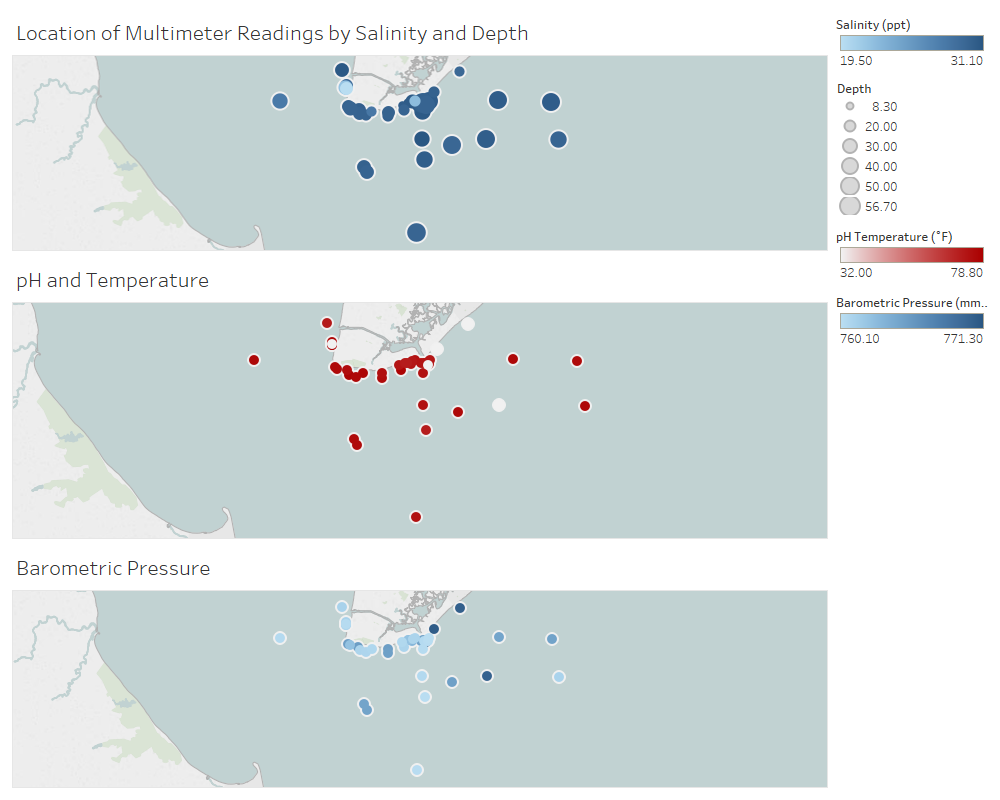

What the dashboard file says about the page in this screenshot:
{"tool":"tableau","page":{"name":"Dashboard 1","canvas":[1000,800],"ordinal":0},"visuals":[{"type":"worksheet","title":"Salinity and Depth","mark":"Automatic","rows":["Latitude"],"cols":["Longitude"],"box":[8,8,824,247]},{"type":"legend","title":"Salinity and Depth","param":"[federated.1645xv30hwy4821c7qb4b1jppbaa].[none:Salinity (ppt):qk]","box":[832,8,160,65]},{"type":"legend","title":"Salinity and Depth","param":"[federated.1645xv30hwy4821c7qb4b1jppbaa].[none:Depth:qk]","box":[832,73,160,146]},{"type":"legend","title":"pH and Temperature","param":"[federated.1645xv30hwy4821c7qb4b1jppbaa].[none:pH Temperature (˚F):qk]","box":[832,219,160,65]},{"type":"worksheet","title":"pH and Temperature","mark":"Automatic","rows":["Latitude"],"cols":["Longitude"],"box":[8,255,824,288]},{"type":"legend","title":"Barometric Pressure","param":"[federated.1645xv30hwy4821c7qb4b1jppbaa].[none:Barometric Pressure (mmHg):qk]","box":[832,284,160,65]},{"type":"worksheet","title":"Barometric Pressure","mark":"Automatic","rows":["Latitude"],"cols":["Longitude"],"box":[8,543,824,249]}]}

Visuals, with their boxes in screenshot pixels (x1, y1, x2, y2), scaled from the page's 1000x800 canvas onto the 1000x800 screenshot:
"Salinity and Depth" worksheet: {"left": 8, "top": 8, "right": 832, "bottom": 255}
"Salinity and Depth" legend: {"left": 832, "top": 8, "right": 992, "bottom": 73}
"Salinity and Depth" legend: {"left": 832, "top": 73, "right": 992, "bottom": 219}
"pH and Temperature" legend: {"left": 832, "top": 219, "right": 992, "bottom": 284}
"pH and Temperature" worksheet: {"left": 8, "top": 255, "right": 832, "bottom": 543}
"Barometric Pressure" legend: {"left": 832, "top": 284, "right": 992, "bottom": 349}
"Barometric Pressure" worksheet: {"left": 8, "top": 543, "right": 832, "bottom": 792}
